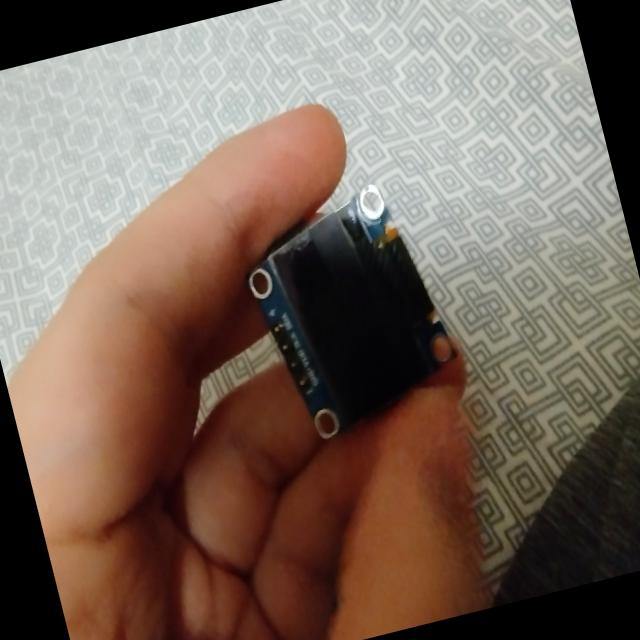oled: (226, 163, 480, 456)
